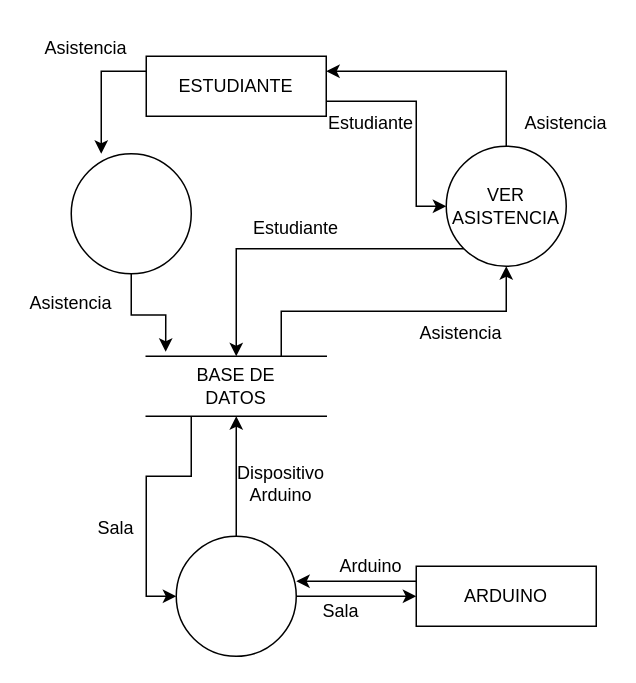
The diagram is 636 pixels wide and 683 high, and some of its shapes have lost their labels. Here are the shapes that lost their labels. From the top down, the box of each, then its label:
(70, 152, 191, 274): REGISTRAR ASISTENCIA
(175, 535, 296, 656): ASIGNAR SALA A ARDUINO
